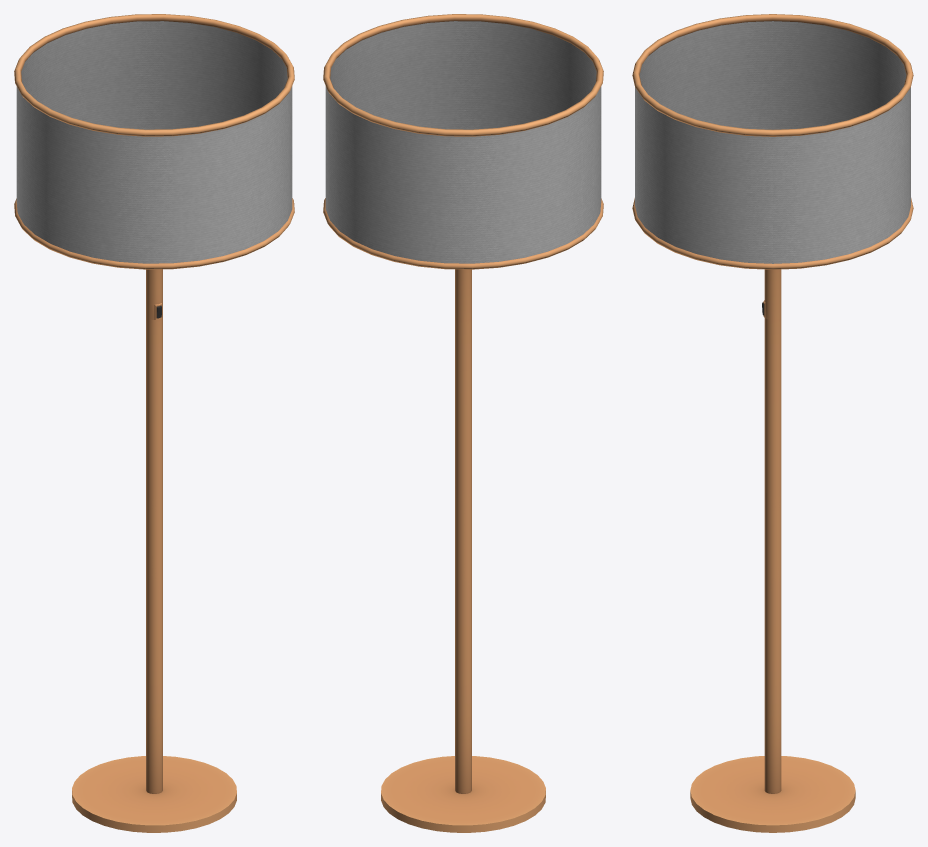
Rendered from FloorLamp.gltf.
3 views of the same model, side by side, from view 1: azimuth 30°, elevation 25°; view 2: azimuth 150°, elevation 25°; view 3: azimuth 270°, elevation 25° (orthographic).
Visible parts, largest first — view 1: FloorLamp; view 2: FloorLamp; view 3: FloorLamp.
Boxes of the visible parts, box(x1,y1,x2,y2) form: FloorLamp: box(14, 14, 294, 832); FloorLamp: box(323, 14, 603, 832); FloorLamp: box(632, 14, 913, 832).
Size of the model in its own units: 0.5253 by 1.49 by 0.5253.
1 material, 1 textured.
